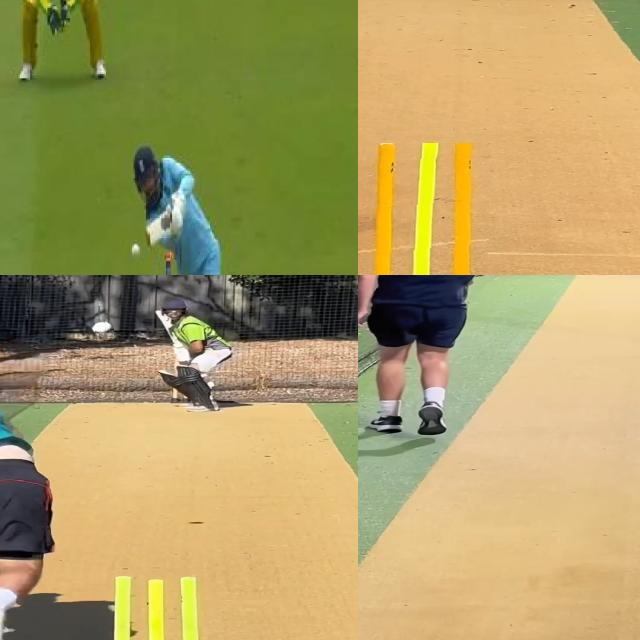Cricket ball: (90, 319, 114, 339), (130, 243, 142, 259)
Stumps: (358, 142, 490, 275), (88, 570, 225, 640)
